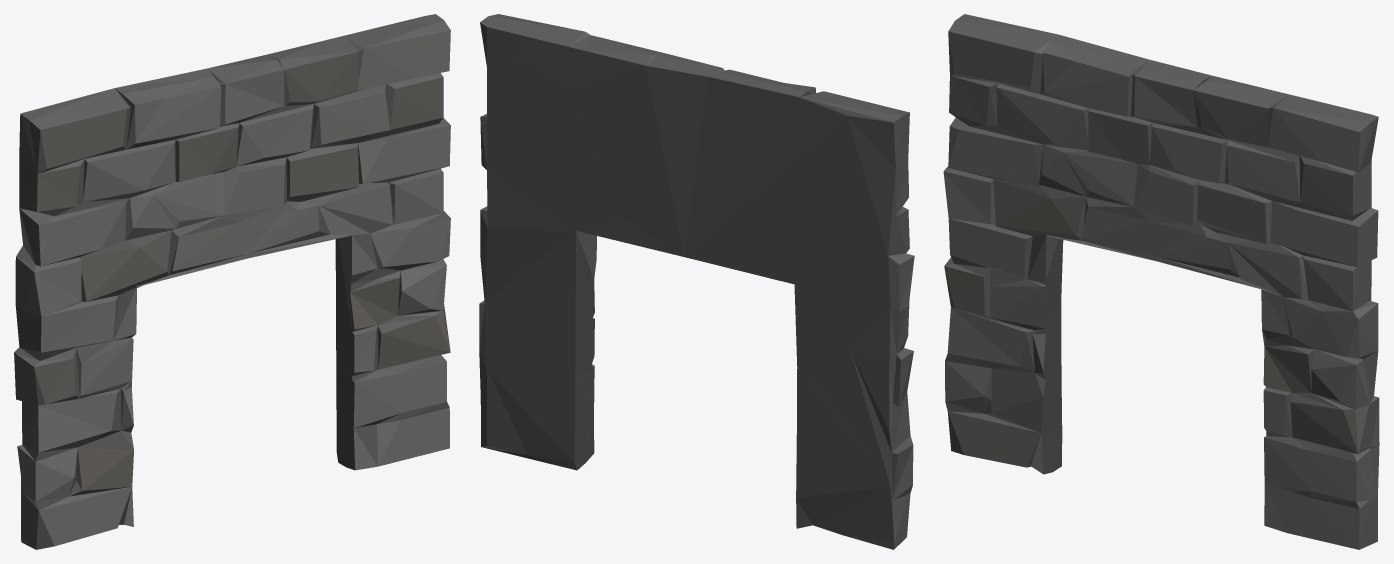
Rendered from SM_Env_Wall_DoorFrame_Double_02.FBX.
The picture shows the model from 3 angles, left to right: view 1: azimuth 30°, elevation 25°; view 2: azimuth 150°, elevation 25°; view 3: azimuth 330°, elevation 25°; orthographic projection.
Visible parts, largest first — view 1: SM_Env_Wall_DoorFrame_Double_02; view 2: SM_Env_Wall_DoorFrame_Double_02; view 3: SM_Env_Wall_DoorFrame_Double_02.
Boxes of the visible parts, <box> form: SM_Env_Wall_DoorFrame_Double_02: <box>14,14,450,549</box>; SM_Env_Wall_DoorFrame_Double_02: <box>479,14,914,549</box>; SM_Env_Wall_DoorFrame_Double_02: <box>943,14,1379,549</box>.
Size of what is drawn, in the model's own units: 518 by 42.95 by 507.
